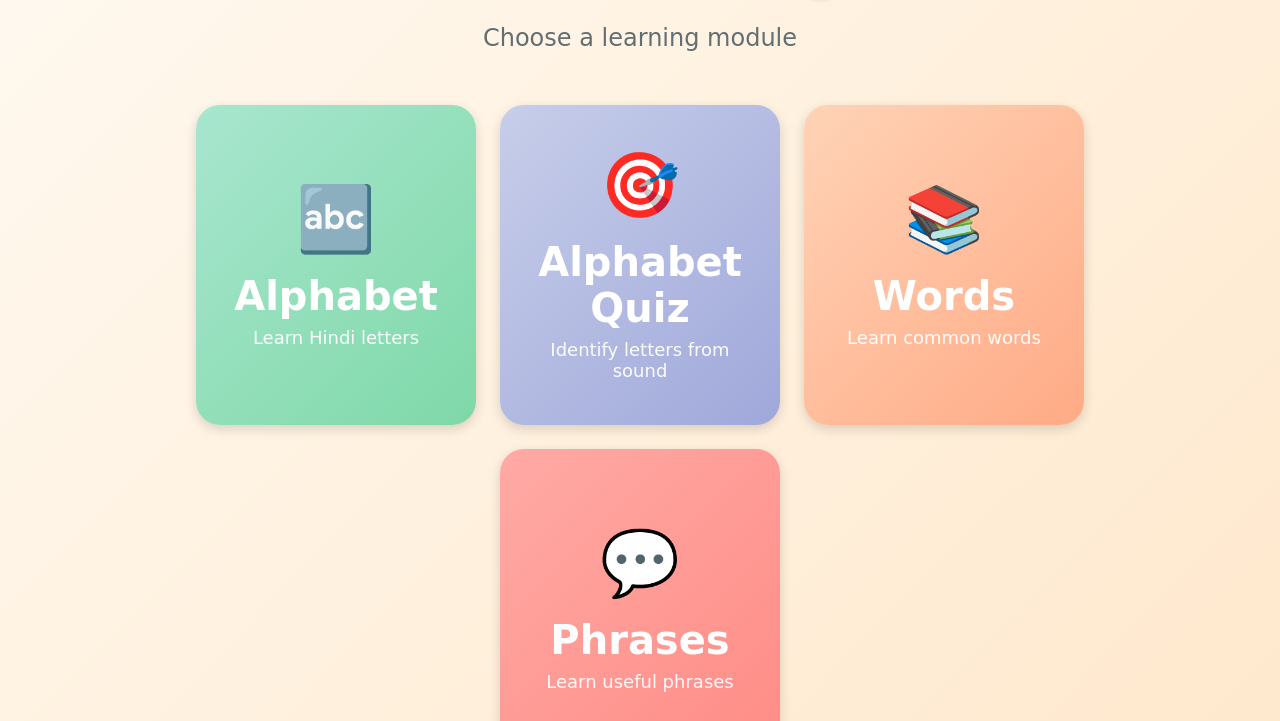
Offline Functionality and Asset Loading › Application Flow › should navigate to alphabet module
The width and height of the screenshot is (1280, 721).
Click the button with aria-label "Learn the Hindi Alphabet".
click(336, 219)  # box [196,105,476,425]
(page scrolled)
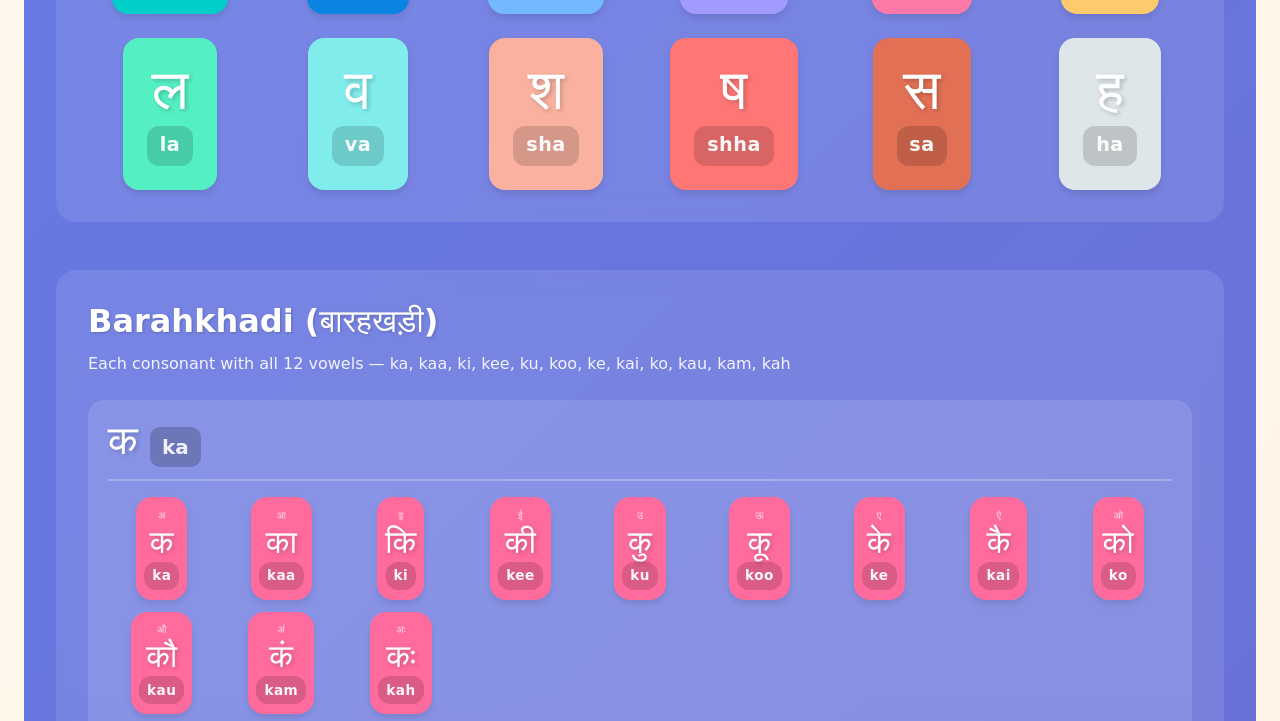
expect the heading "Barahkhadi (बारहखड़ी)" is shown: met, box [88,302,438,340]
